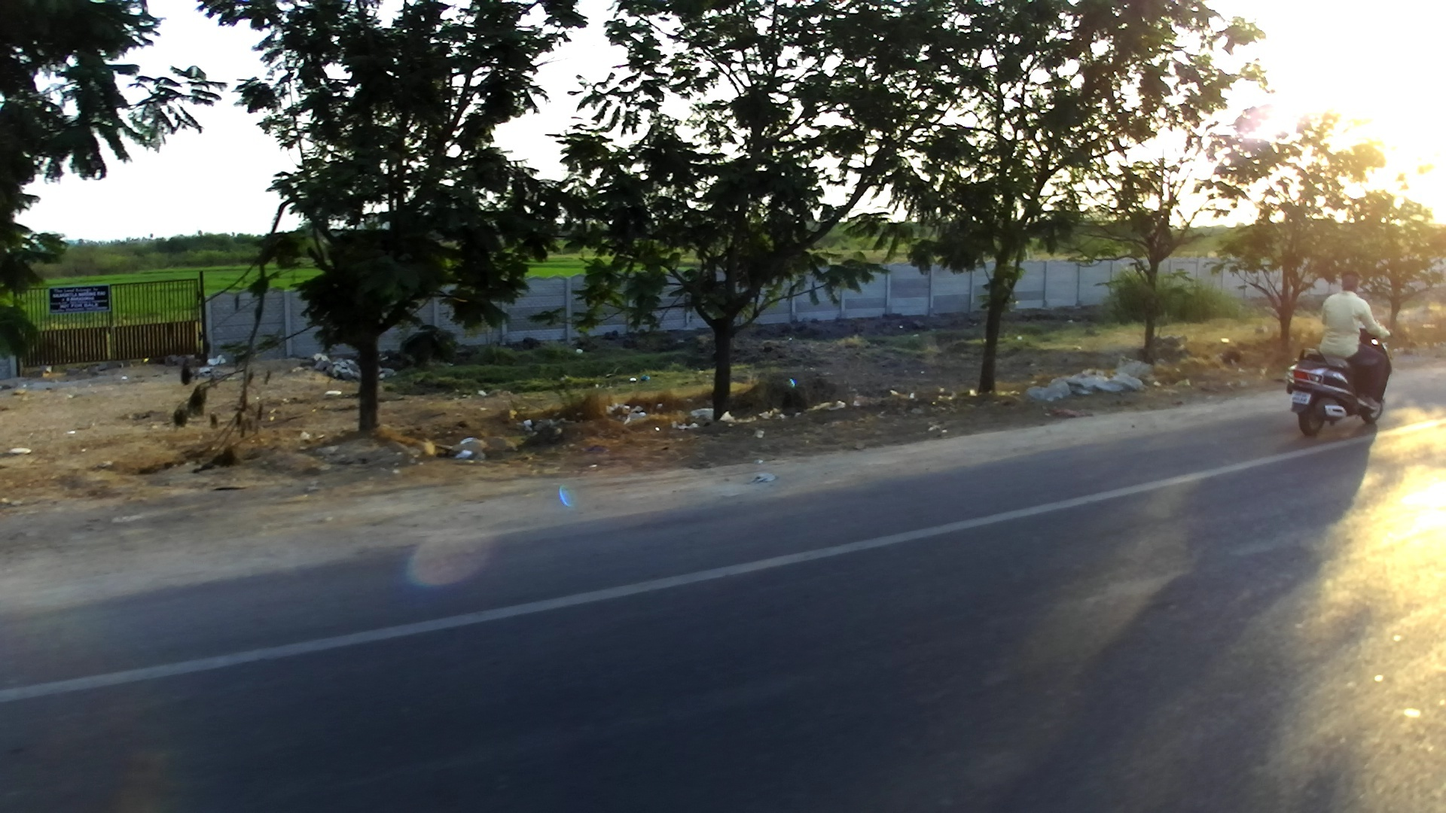motorcycle: (1286, 328, 1394, 435)
rider: (1314, 266, 1393, 413)
